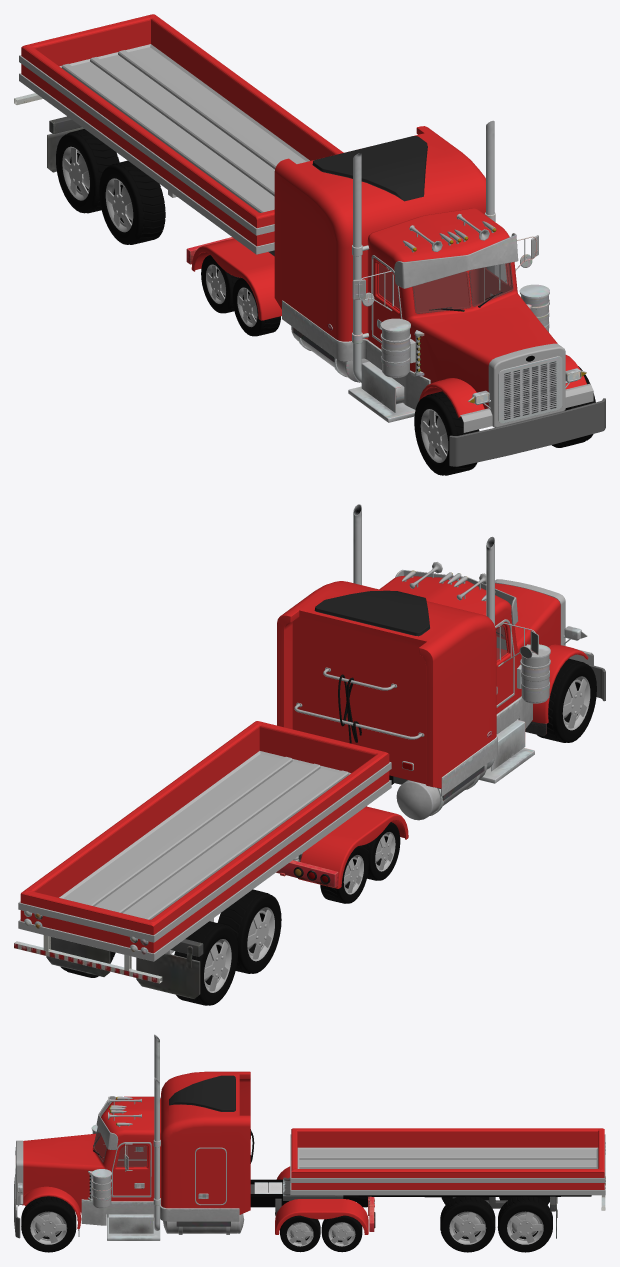
The model's file is player-truck.fbx.
3 views of the same model, one above another, from view 1: azimuth 30°, elevation 25°; view 2: azimuth 150°, elevation 25°; view 3: azimuth 270°, elevation 25° (orthographic). The views are drawn at different scales.
Visible parts, largest first — view 1: player-truck, big-truck-rear-wheel-A-R, big-truck-rear-wheel-B-R, big-truck-front-wheel-R, big-truck-middle-wheel-A-R, big-truck-middle-wheel-B-R; view 2: player-truck, big-truck-rear-wheel-A-R, big-truck-front-wheel-R, big-truck-rear-wheel-B-R, big-truck-middle-wheel-B-R, big-truck-middle-wheel-A-R; view 3: player-truck, big-truck-rear-wheel-A-L, big-truck-rear-wheel-B-L, big-truck-front-wheel-L, big-truck-middle-wheel-B-L, big-truck-middle-wheel-A-L.
Part boxes in pixels (left/top/right/bottom): player-truck: left=14, top=14, right=605, bottom=466; big-truck-rear-wheel-A-R: left=99, top=160, right=165, bottom=244; big-truck-rear-wheel-B-R: left=56, top=129, right=119, bottom=213; big-truck-front-wheel-R: left=414, top=391, right=479, bottom=475; big-truck-middle-wheel-A-R: left=232, top=278, right=280, bottom=336; big-truck-middle-wheel-B-R: left=201, top=255, right=240, bottom=313; player-truck: left=14, top=504, right=605, bottom=998; big-truck-rear-wheel-A-R: left=217, top=889, right=281, bottom=973; big-truck-front-wheel-R: left=537, top=658, right=596, bottom=742; big-truck-rear-wheel-B-R: left=174, top=921, right=238, bottom=1005; big-truck-middle-wheel-B-R: left=320, top=845, right=368, bottom=903; big-truck-middle-wheel-A-R: left=361, top=822, right=400, bottom=880; player-truck: left=14, top=1034, right=605, bottom=1240; big-truck-rear-wheel-A-L: left=440, top=1196, right=495, bottom=1252; big-truck-rear-wheel-B-L: left=497, top=1196, right=552, bottom=1252; big-truck-front-wheel-L: left=21, top=1196, right=76, bottom=1252; big-truck-middle-wheel-B-L: left=321, top=1215, right=362, bottom=1252; big-truck-middle-wheel-A-L: left=280, top=1215, right=320, bottom=1252.
Size of the model in its own units: 3.03 by 4.08 by 12.58.
